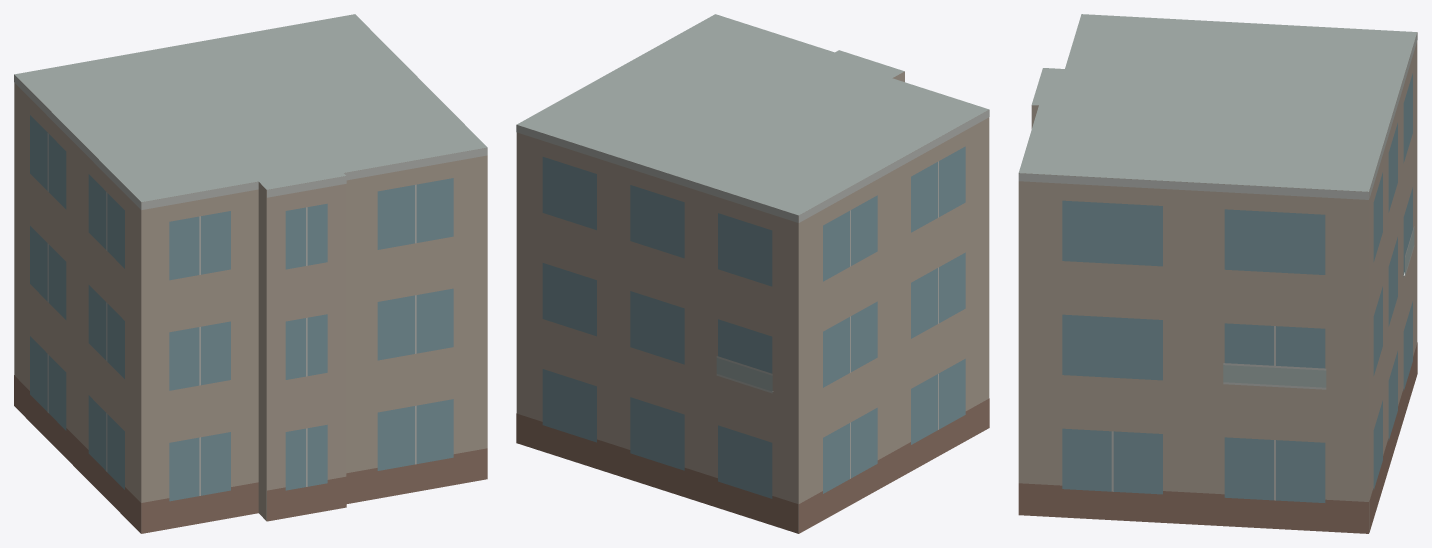
File: survey-upis-32967856.glb
3 renders of one model, left to right at view 1: azimuth 30°, elevation 25°; view 2: azimuth 150°, elevation 25°; view 3: azimuth 270°, elevation 25°, orthographic. The views are drawn at different scales.
Visible parts, largest first — view 1: survey-upis-32967856.tmp; view 2: survey-upis-32967856.tmp; view 3: survey-upis-32967856.tmp.
Boxes of the visible parts, x1=… form: survey-upis-32967856.tmp: x1=14, y1=14, x2=487, y2=533; survey-upis-32967856.tmp: x1=516, y1=14, x2=989, y2=533; survey-upis-32967856.tmp: x1=1018, y1=14, x2=1417, y2=533.
Size of the model in its own units: 11.38 by 10.2 by 10.79.
